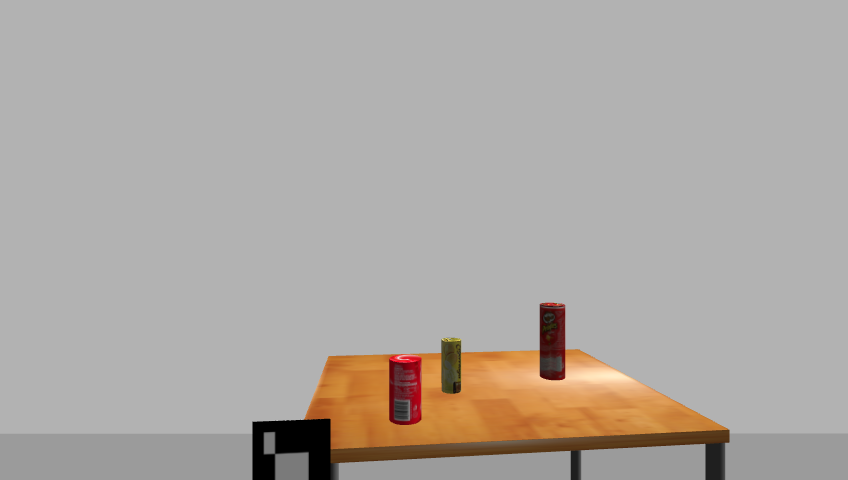aruco marker: (246, 418, 336, 480)
biscuits pack: (440, 337, 464, 396)
coke can: (388, 354, 423, 426)
dinner table: (296, 348, 737, 479)
pringles can: (537, 302, 568, 382)
